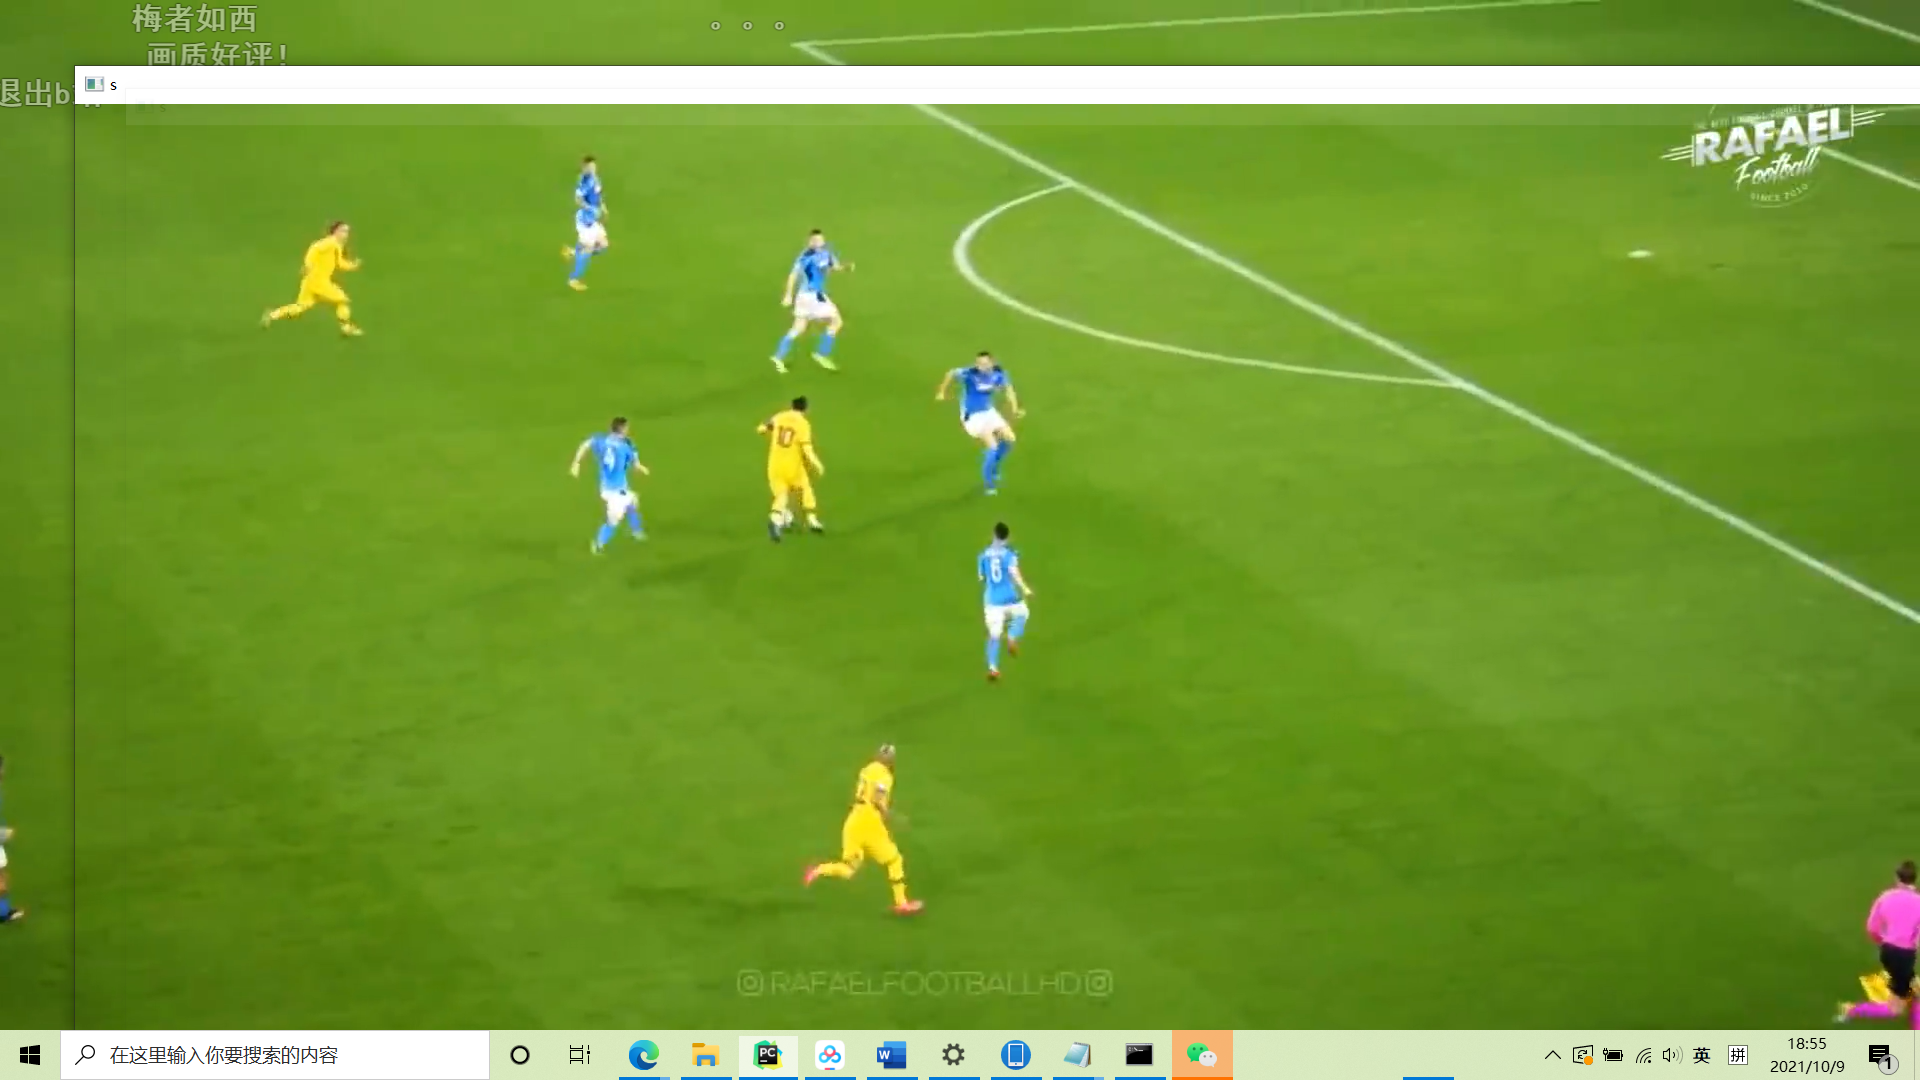ft: (775, 506, 796, 530)
